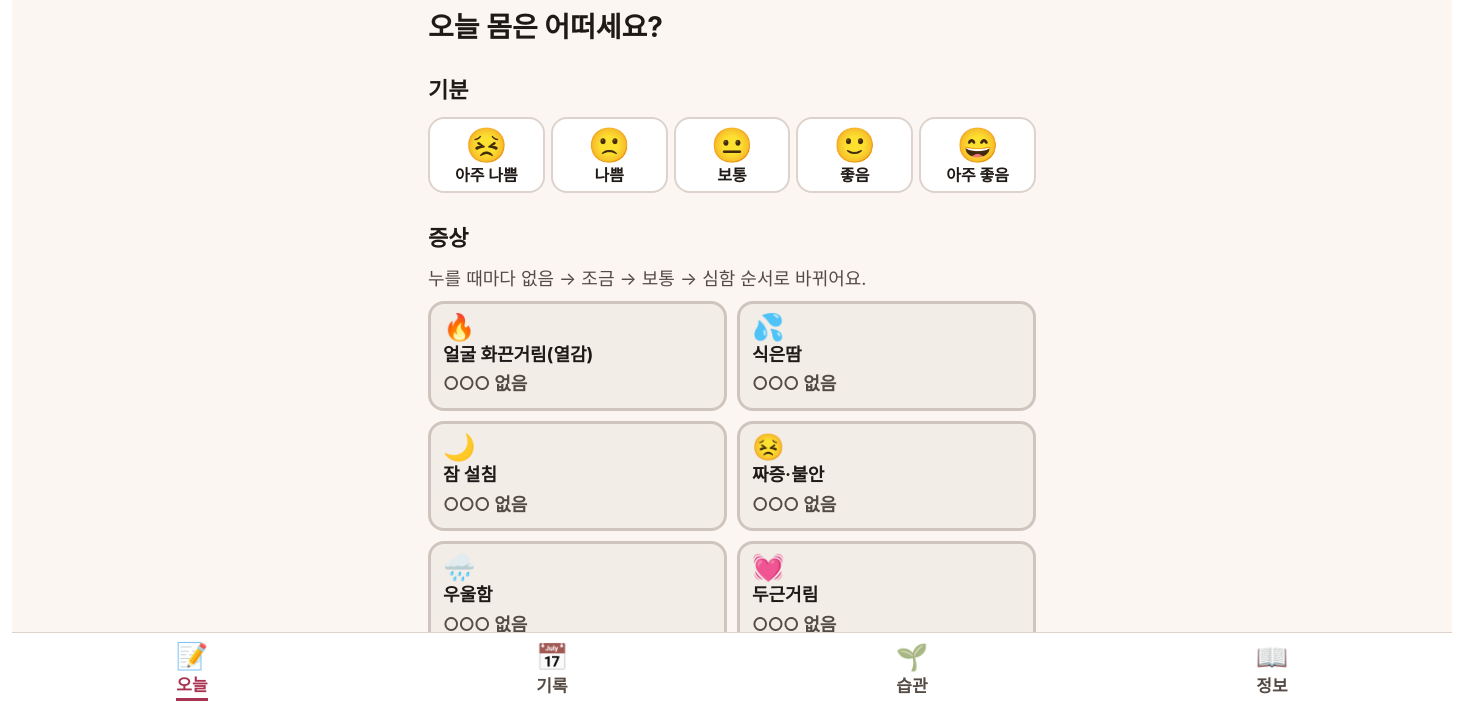
Test: 오늘 화면: 기분 1번 + 증상 3개를 탭 4~5번에 기록하고 자동 저장된다
Step 1. Click the button "🙂 좋음" → x=855, y=155, box [796,118,913,193]
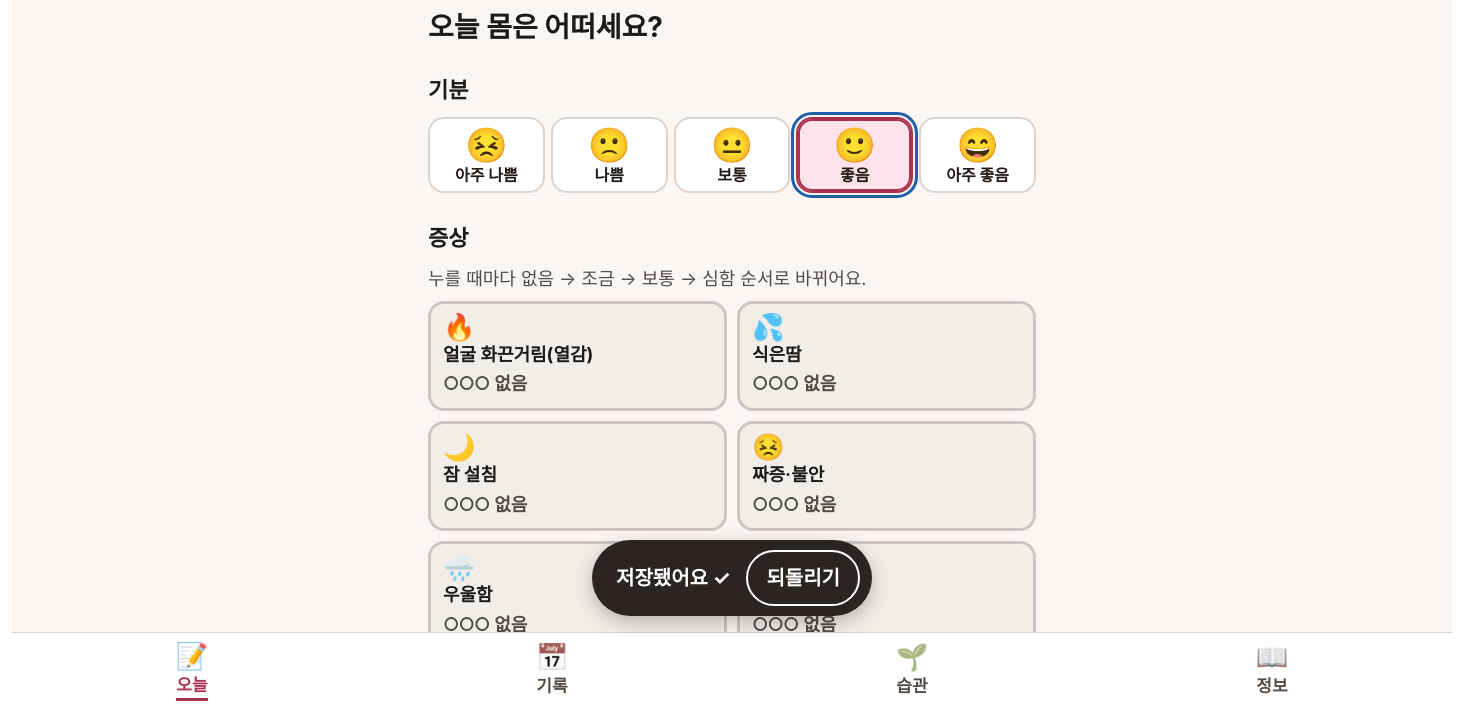
Step 2. Click the button with aria-label "얼굴 화끈거림(열감), 지금 없음" → x=578, y=356, box [428,301,727,411]
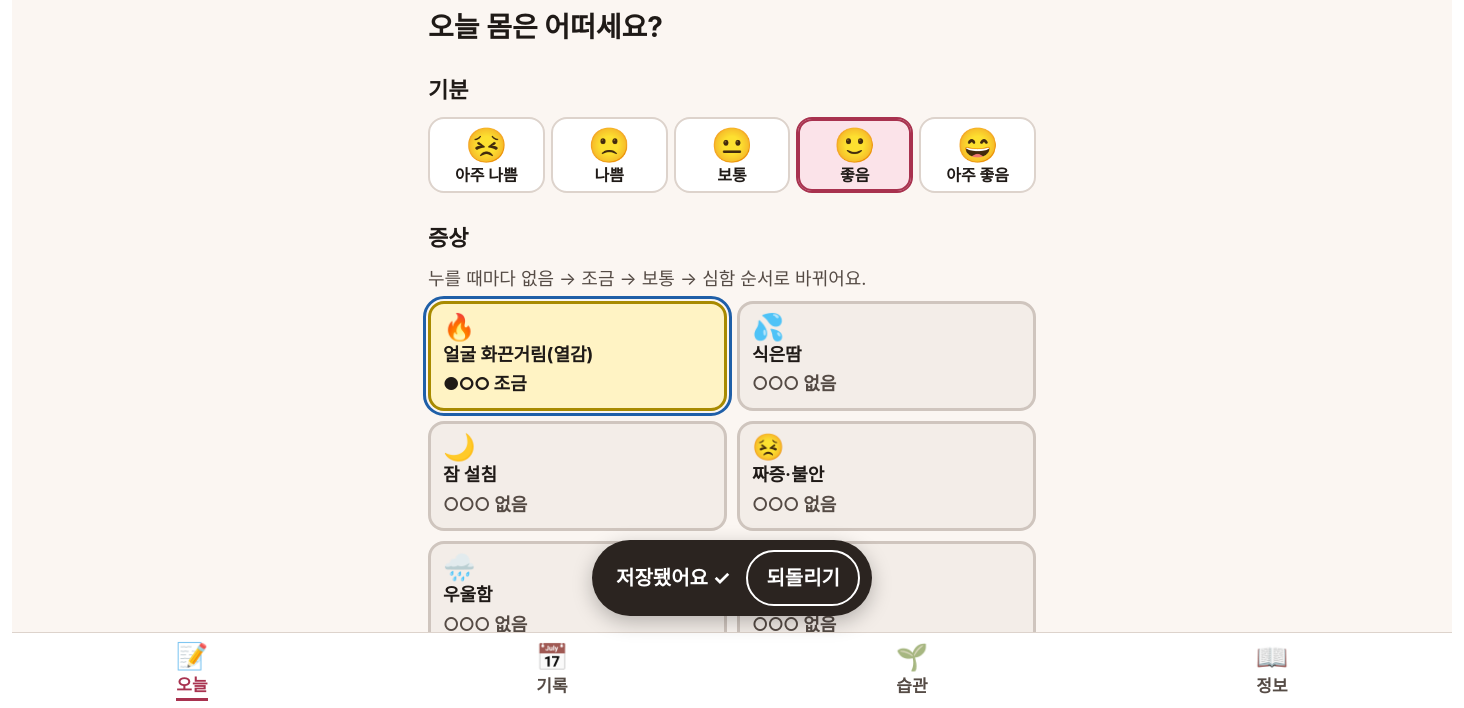
Step 3. Click the button with aria-label "식은땀, 지금 없음" → x=768, y=326, box [737,301,1036,411]
(page scrolled)
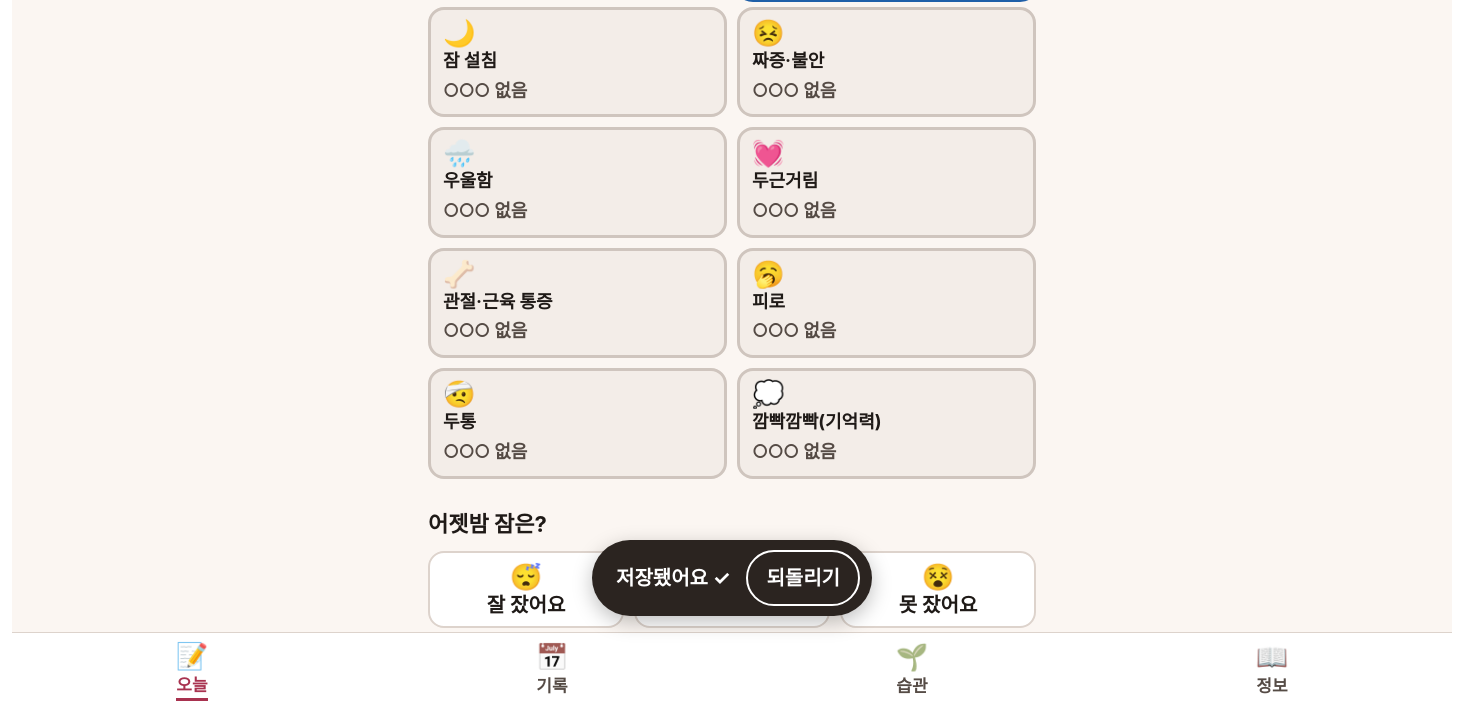
Step 4. Click the button with aria-label "피로, 지금 없음" → x=768, y=273, box [737,248,1036,358]
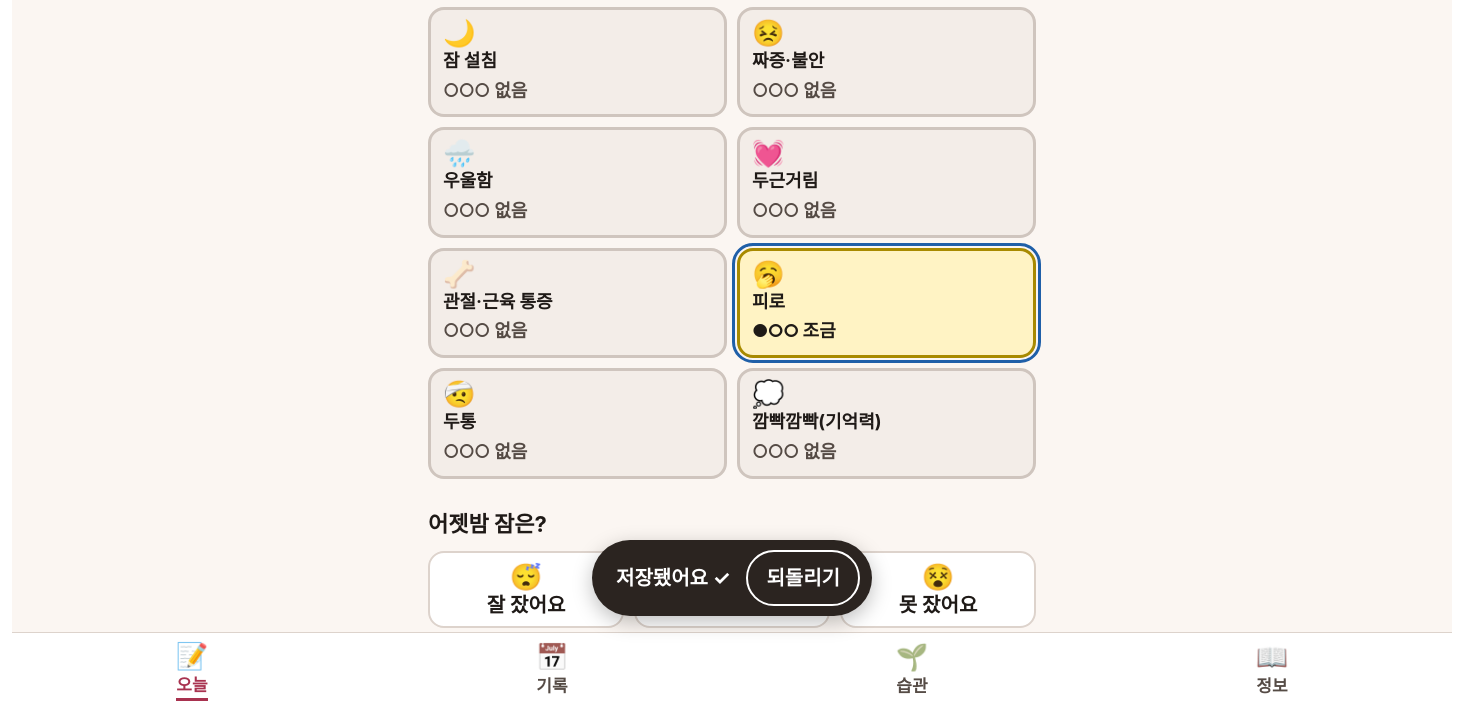
Step 5. Click the button with aria-label "피로, 지금 조금" → x=768, y=273, box [737,248,1036,358]
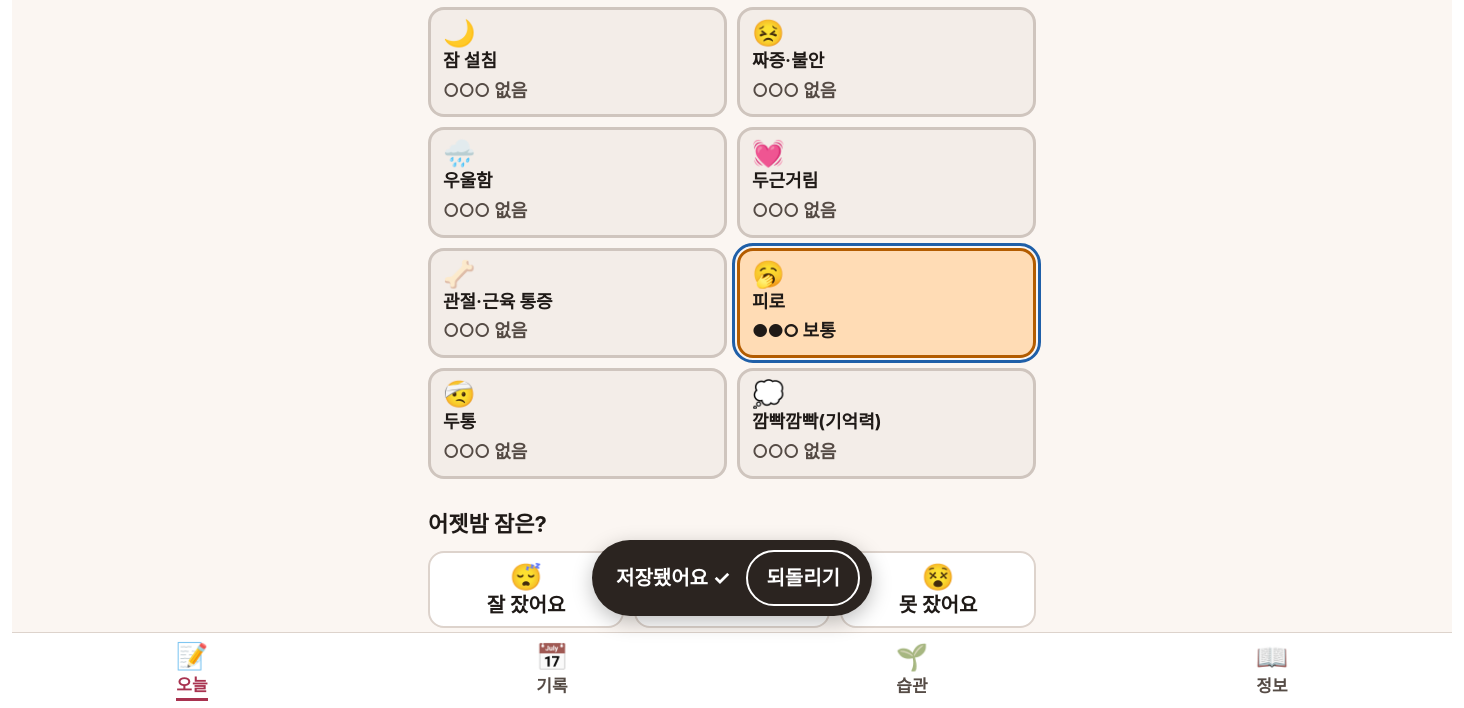
Check: the message shows "저장됐어요 ✓", box [616,566,730,590]
Check: the button with aria-label "피로, 지금 보통" is shown, box [737,248,1036,358]
